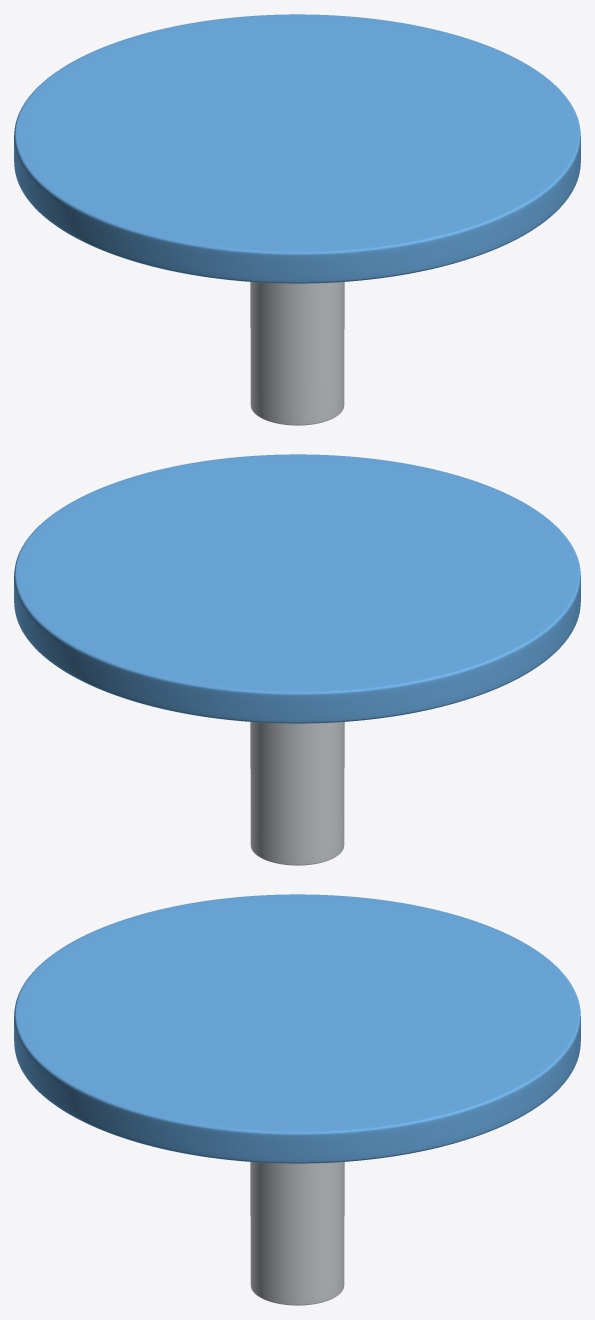
File: Toy_Platform_Hi_000522.fbx
The picture shows the model from 3 angles, top to bottom: view 1: azimuth 30°, elevation 25°; view 2: azimuth 150°, elevation 25°; view 3: azimuth 270°, elevation 25°; orthographic projection.
Parts seen in each view (by area): view 1: Cylinder, Cylinder.001; view 2: Cylinder, Cylinder.001; view 3: Cylinder, Cylinder.001.
Boxes of the visible parts, <box> form: Cylinder: <box>14,14,580,283</box>; Cylinder.001: <box>250,282,344,425</box>; Cylinder: <box>14,454,580,723</box>; Cylinder.001: <box>250,722,344,865</box>; Cylinder: <box>14,894,580,1163</box>; Cylinder.001: <box>250,1162,344,1305</box>.
Bounding box in the file's own units: 2.4 × 1.27 × 2.4.
